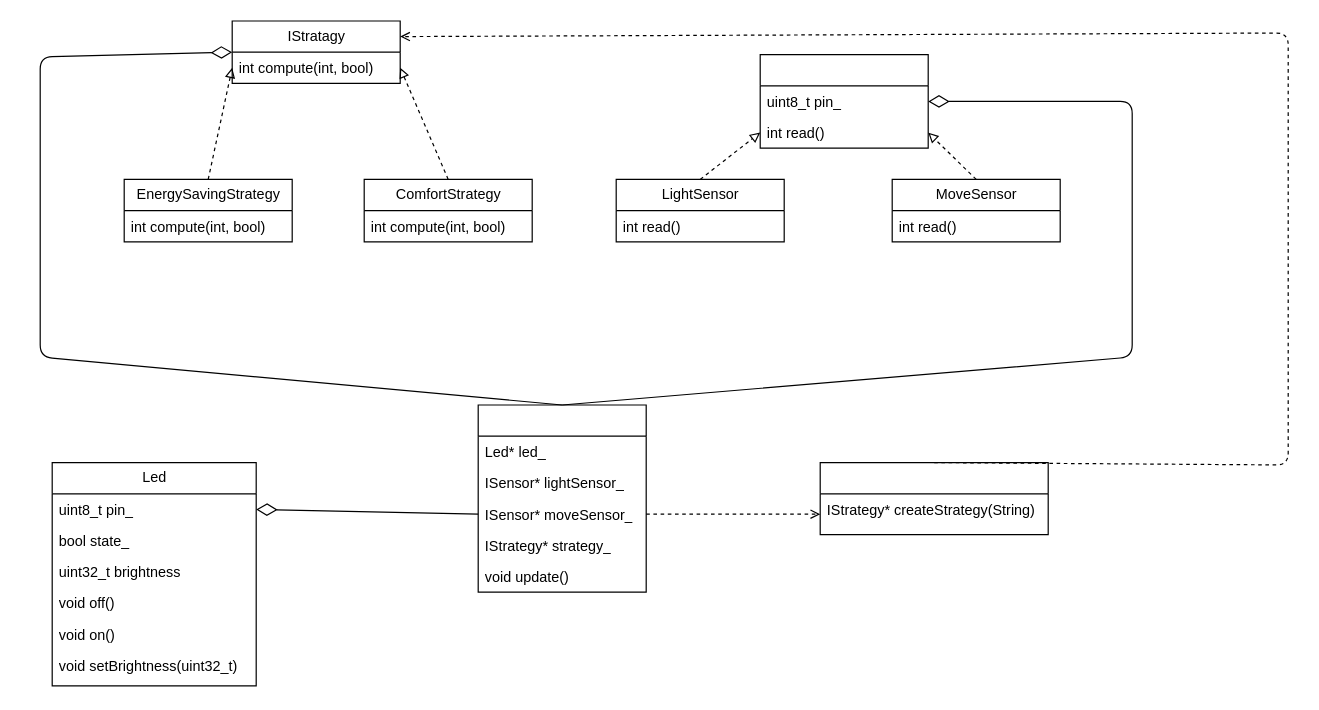
This 1319x710 diagram has some shape labels left out. The shapes that lost their labels are listed below. From the top down, each one's box as (x1, y1, x2, y2) in pixels, then its label:
(759, 53, 928, 148): ISensor
(477, 404, 646, 592): LightingController
(819, 461, 1048, 535): StrategyFactory
